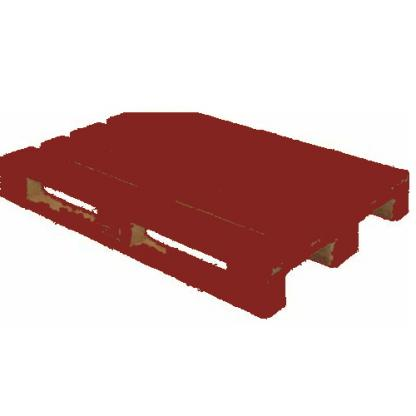BoxFace: (0, 112, 411, 327)
